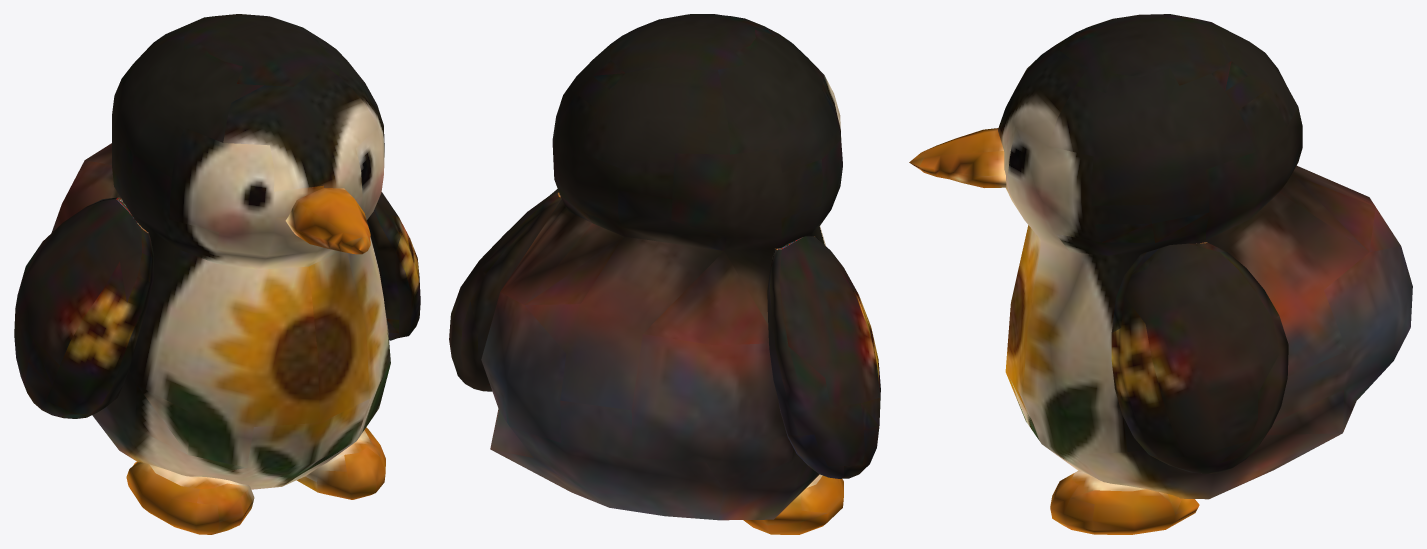
File: penguin-01-13-sunflower.gltf
The picture shows the model from 3 angles, left to right: view 1: azimuth 30°, elevation 25°; view 2: azimuth 150°, elevation 25°; view 3: azimuth 270°, elevation 25°; orthographic projection. The views are drawn at different scales.
Parts seen in each view (by area): view 1: penguin-01-13-sunflower; view 2: penguin-01-13-sunflower; view 3: penguin-01-13-sunflower.
Boxes of the visible parts, x1,y1,x2,y2 form: penguin-01-13-sunflower: [14, 14, 420, 534]; penguin-01-13-sunflower: [449, 14, 880, 534]; penguin-01-13-sunflower: [909, 14, 1412, 534].
Bounding box in the file's own units: 0.2 × 0.2277 × 0.2267.
1 material, 1 textured.
